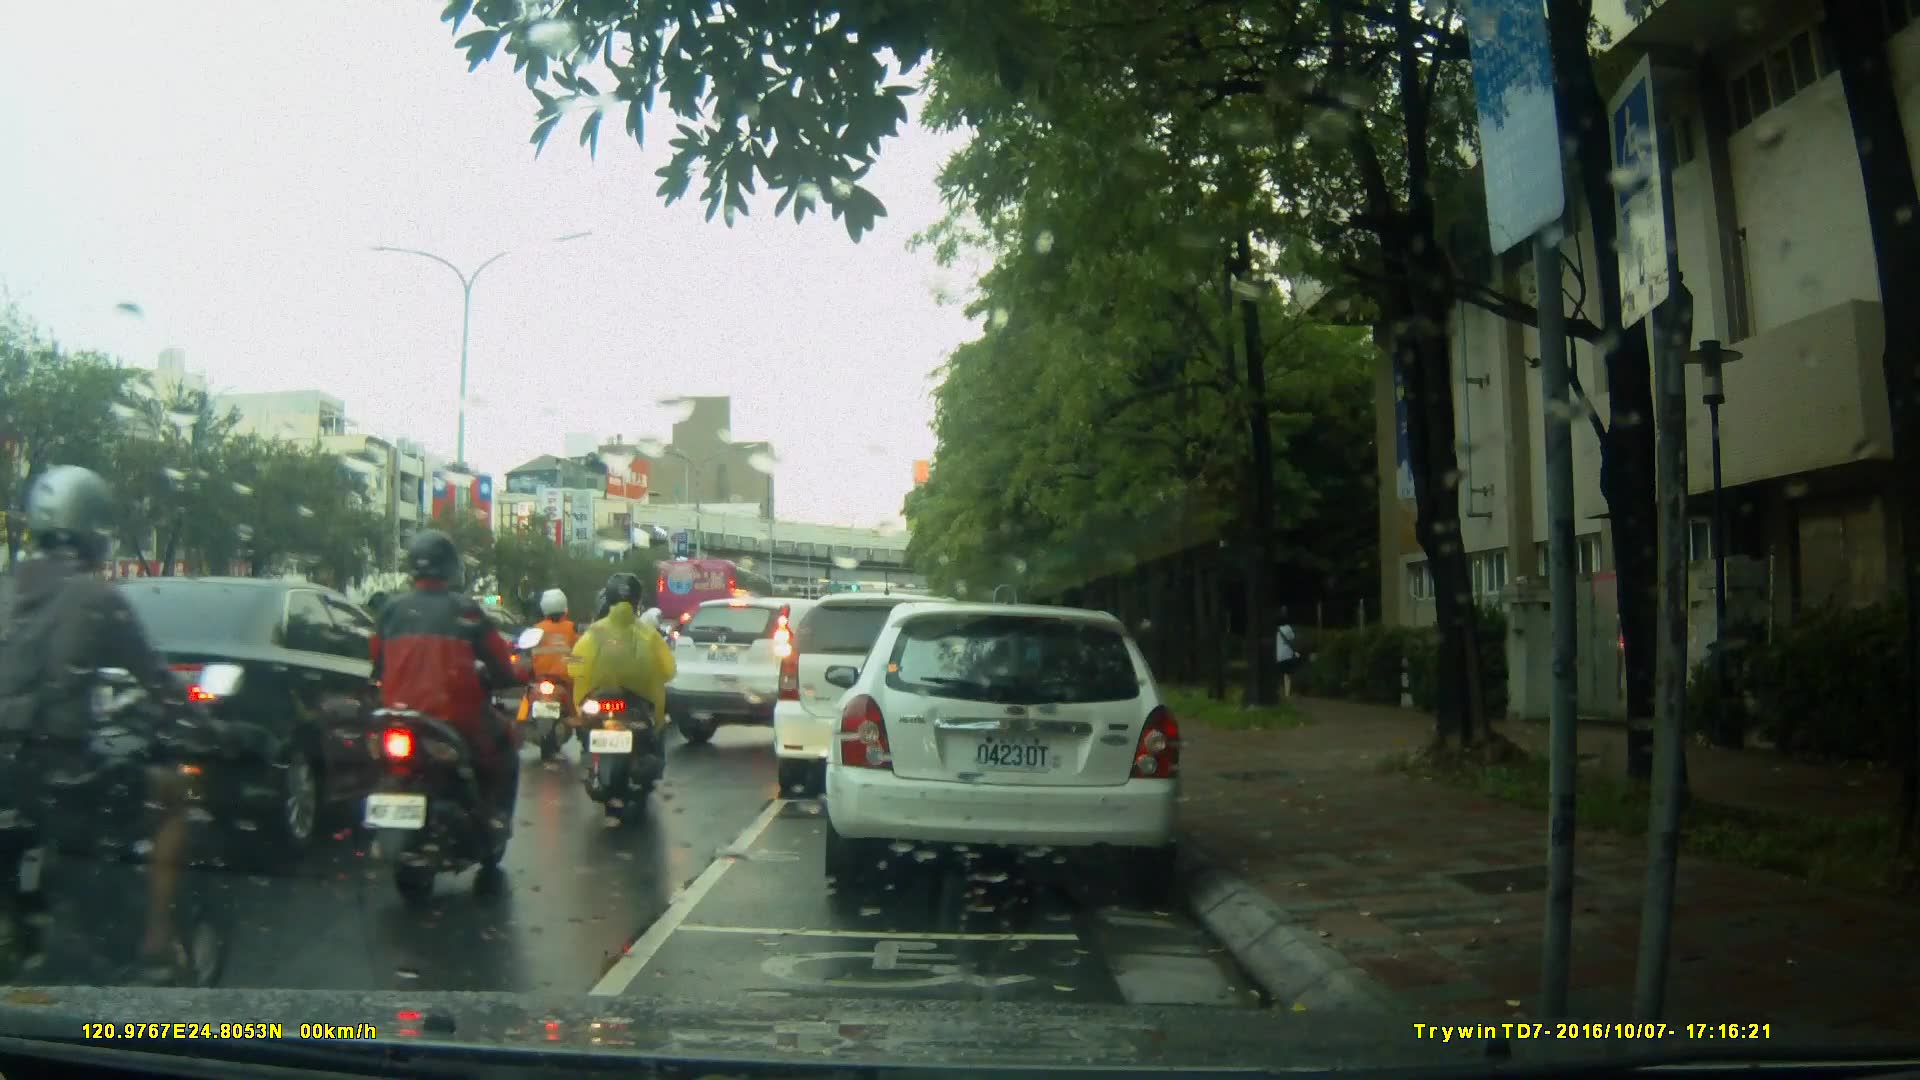pedestrian: (1255, 605, 1297, 718)
rider: (1, 466, 249, 1009), (364, 532, 549, 908), (568, 580, 681, 823), (577, 581, 661, 788), (523, 590, 589, 762)
vehicle: (1, 573, 463, 858), (835, 594, 1194, 898), (776, 590, 1026, 784), (662, 591, 905, 752), (654, 557, 775, 642)
